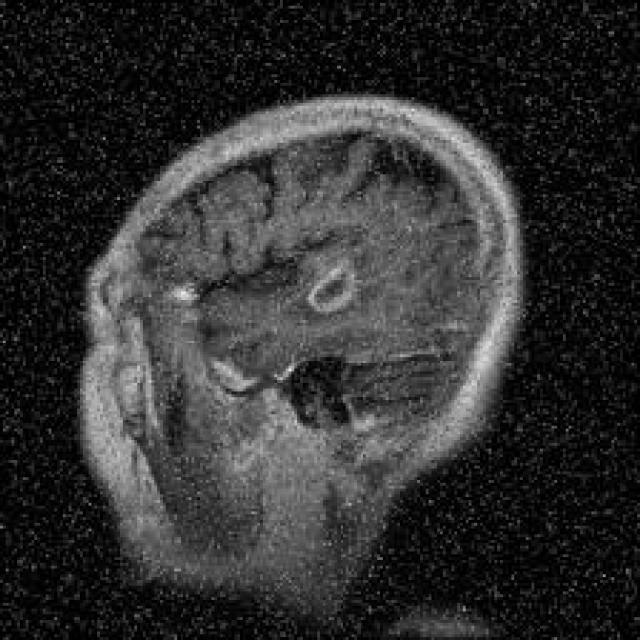glioma_tumor: (284, 240, 381, 332)
